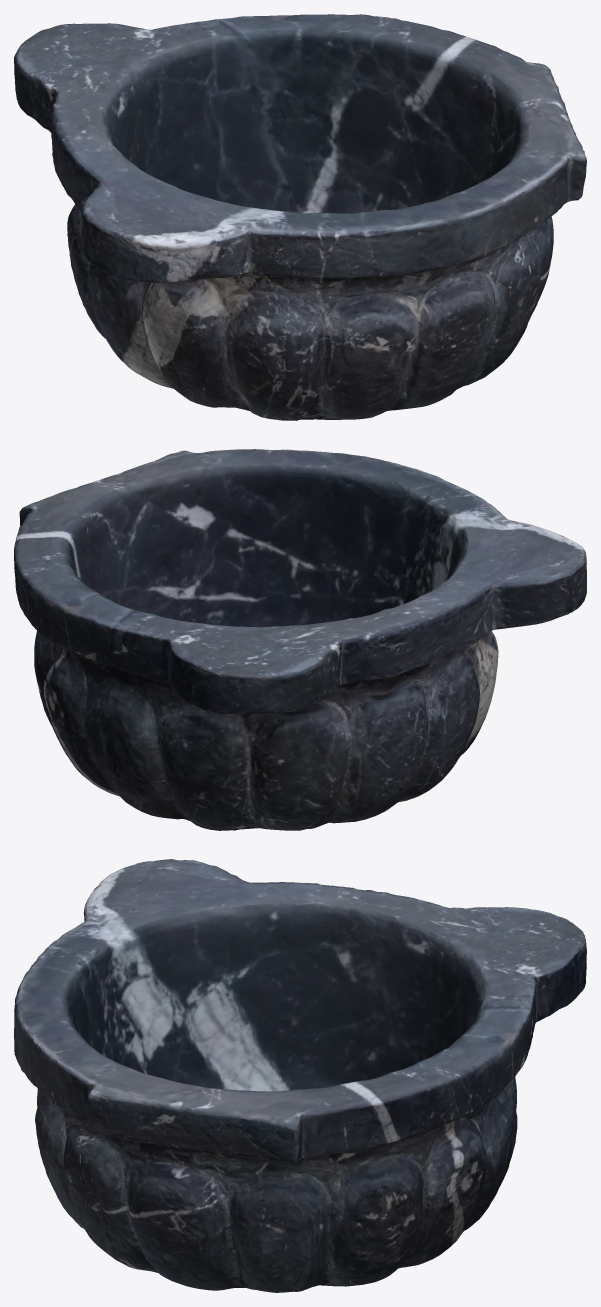
The model's file is kurna.glb.
The picture shows the model from 3 angles, top to bottom: view 1: azimuth 30°, elevation 25°; view 2: azimuth 150°, elevation 25°; view 3: azimuth 270°, elevation 25°; orthographic projection. The views are drawn at different scales.
Size of the model in its own units: 1.1 by 0.4848 by 1.05.
Materials: 1 (1 with a texture image).
